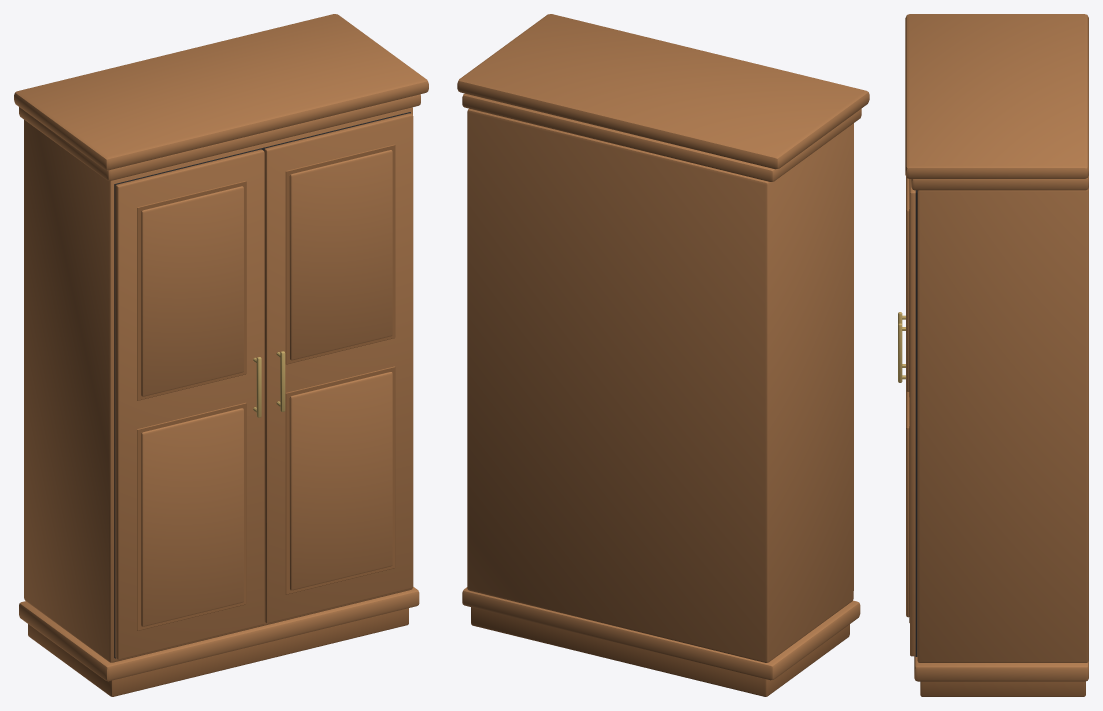
The model's file is Wardrobe.fbx.
The picture shows the model from 3 angles, left to right: view 1: azimuth 30°, elevation 25°; view 2: azimuth 150°, elevation 25°; view 3: azimuth 270°, elevation 25°; orthographic projection. The views are drawn at different scales.
Parts seen in each view (by area): view 1: Wardrobe_Mesh; view 2: Wardrobe_Mesh; view 3: Wardrobe_Mesh.
Part boxes in pixels (x1,y1,x2,y2): Wardrobe_Mesh: (14,14,428,696); Wardrobe_Mesh: (457,14,869,696); Wardrobe_Mesh: (898,14,1088,696).
Size of the model in its own units: 1.24 by 2 by 0.645.
